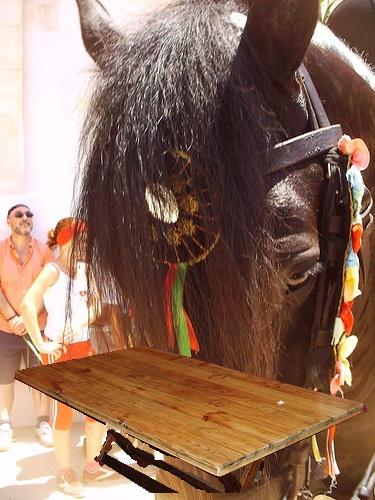tampered: (15, 346, 367, 493)
